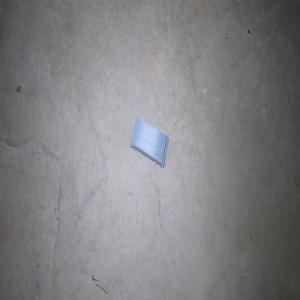PlasticPart: (129, 116, 169, 168)
